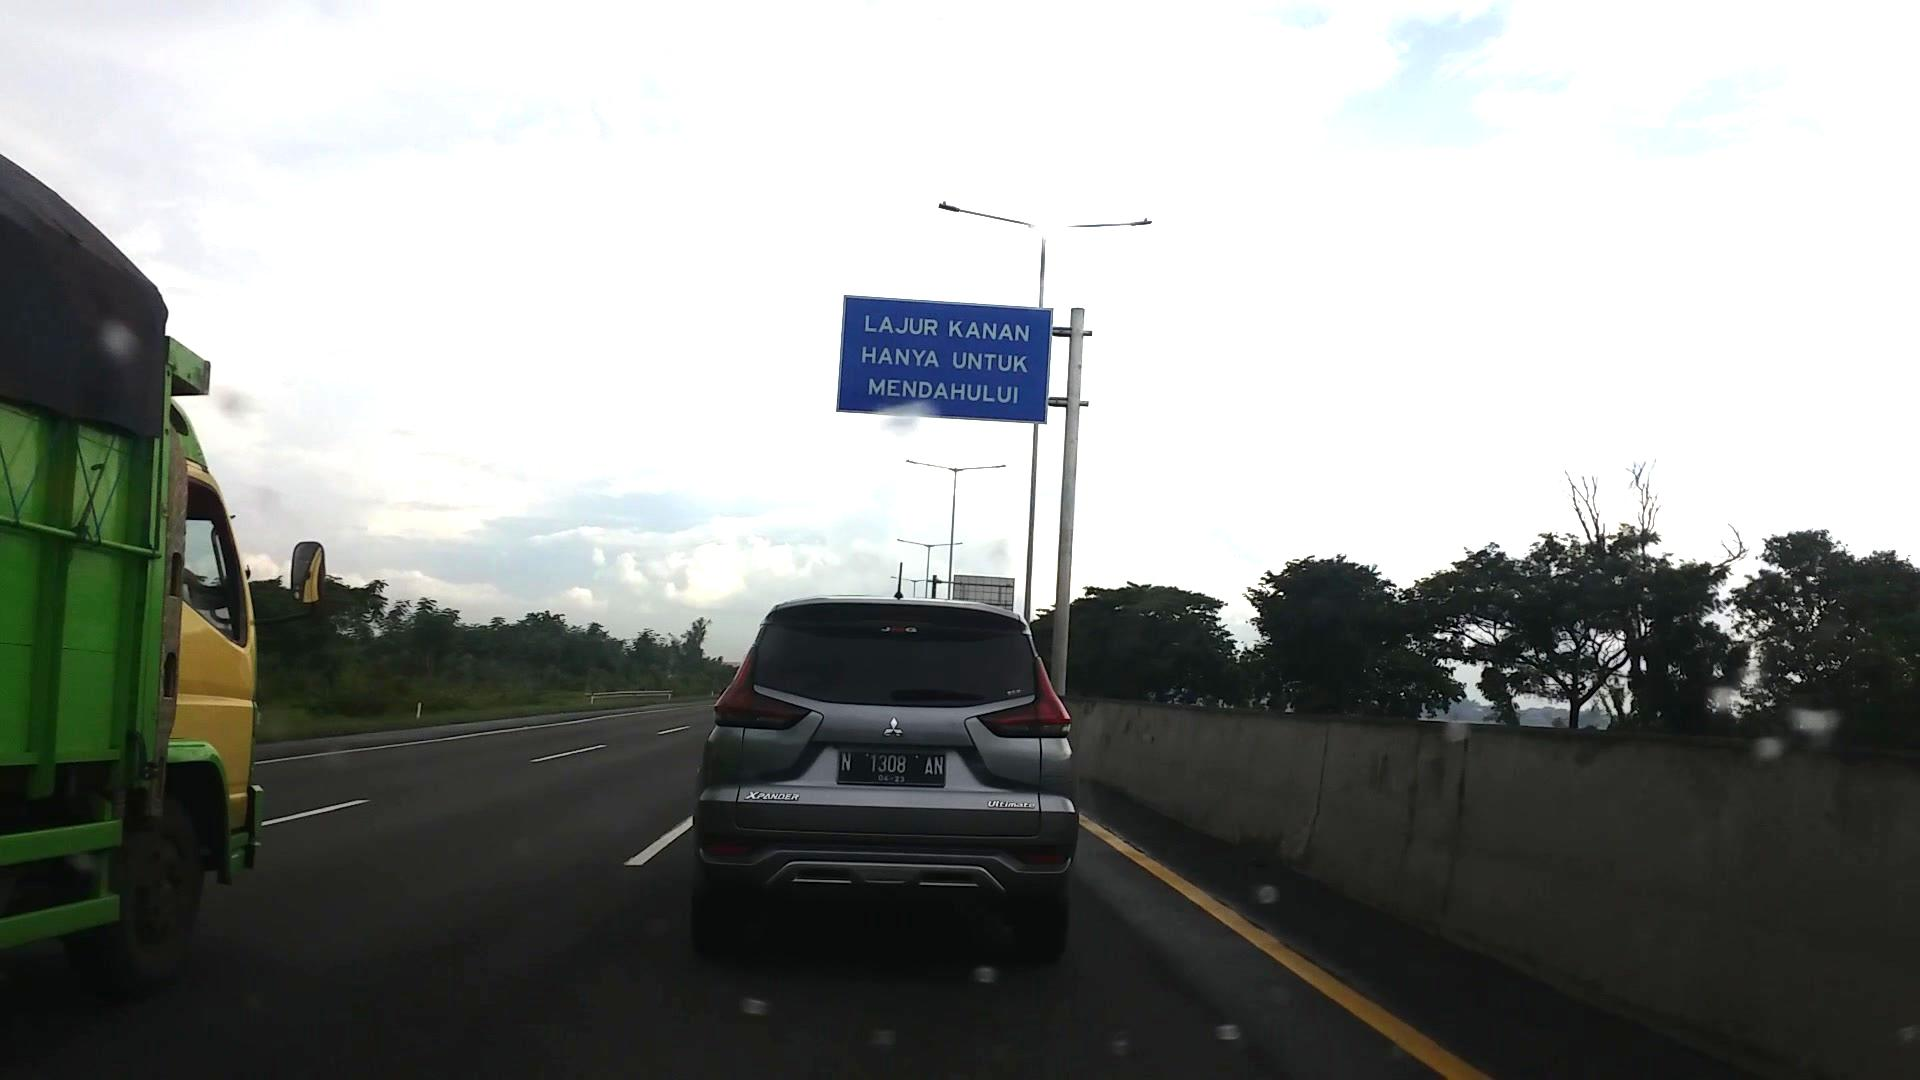plate_positive: (837, 750, 945, 789)
